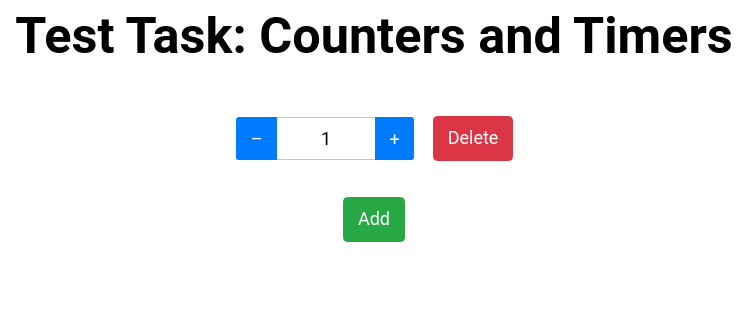
Test: App › renders next counter with summary value of previous
The image size is (748, 322).
Step 1. Click the button with test id "1_plus" → x=394, y=138, box [375,117,414,160]
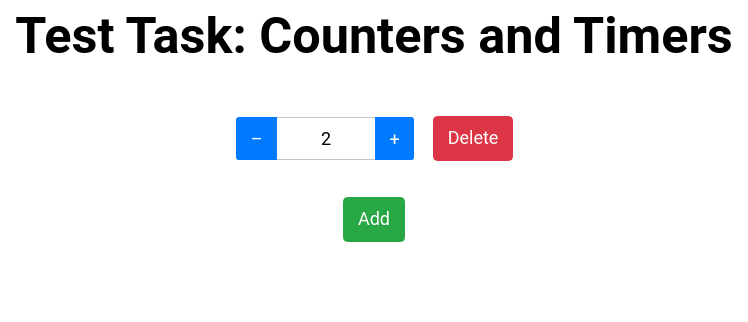
Check: the text with test id "1_span" reads "2", box [321,128,331,149]
Step 2. Click the text "Add" → x=374, y=218, box [358,208,390,228]
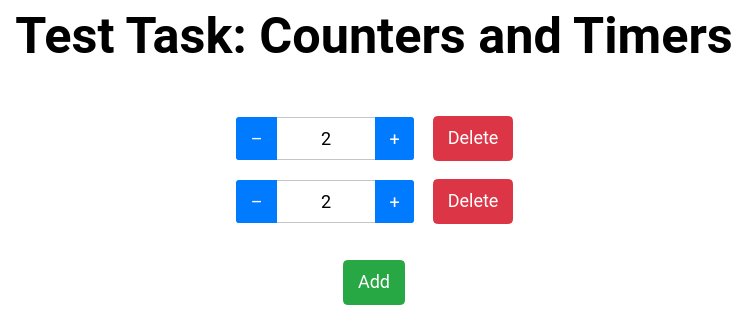
Check: the text with test id "2_span" reads "2", box [321,191,331,212]
